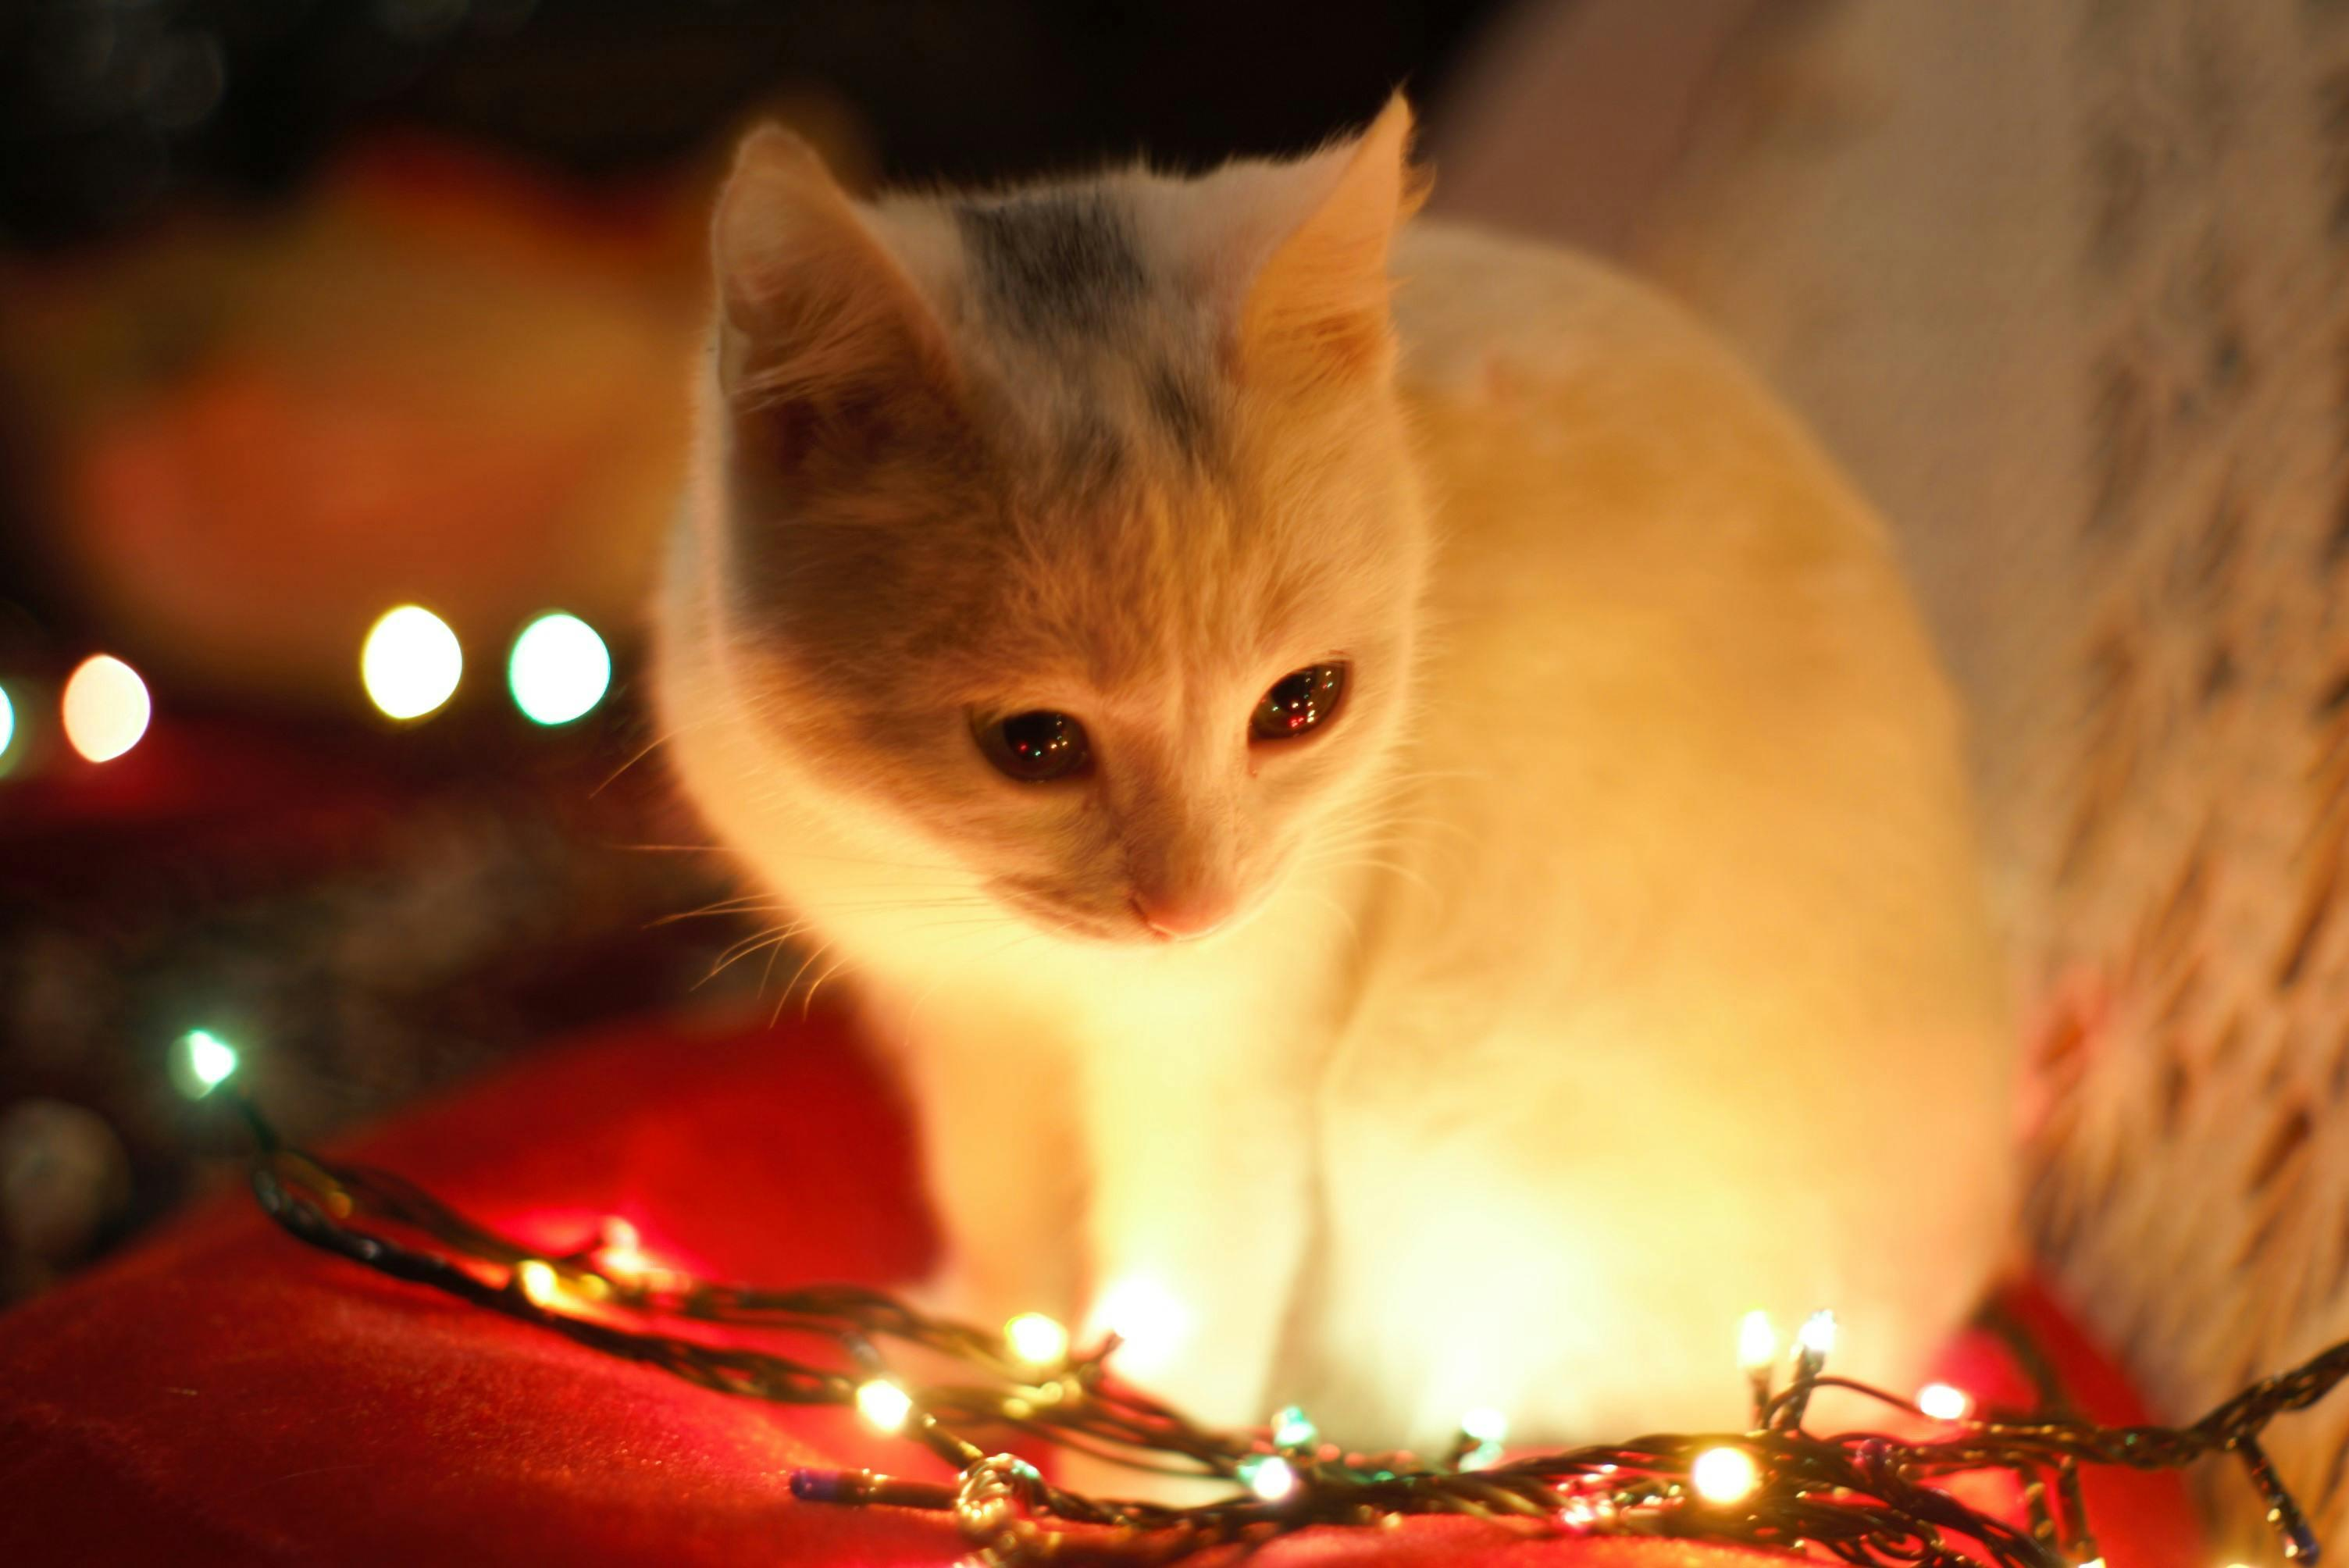kedo: (663, 112, 1434, 952)
